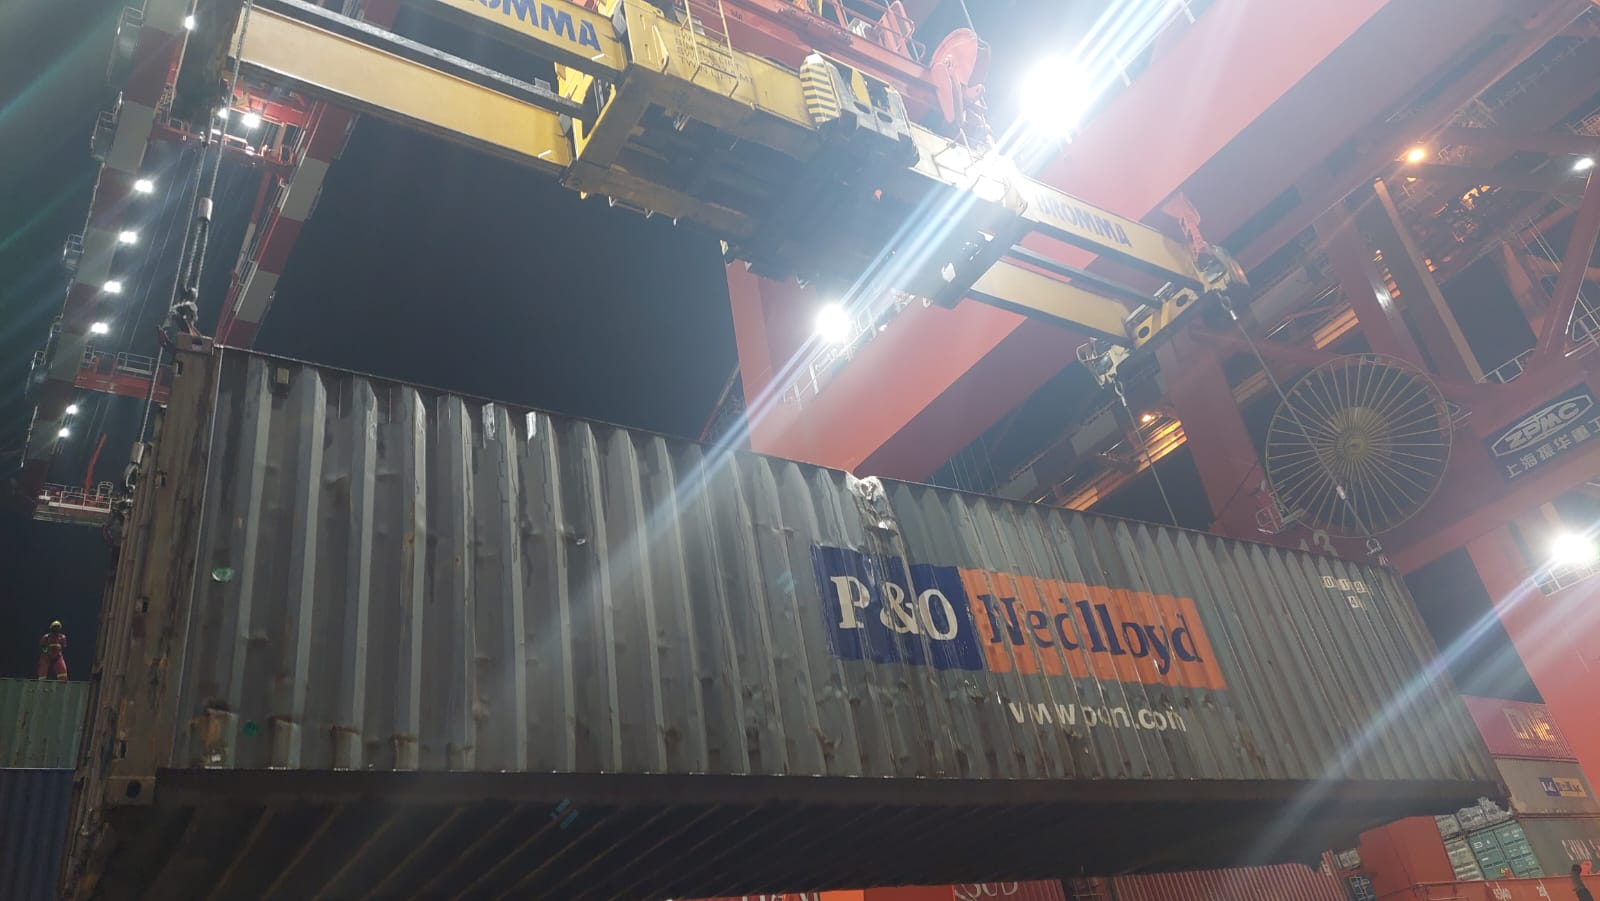bulged: (475, 513, 596, 558)
dented: (186, 698, 467, 775), (807, 732, 1157, 779), (795, 459, 946, 563), (756, 674, 1051, 718)
